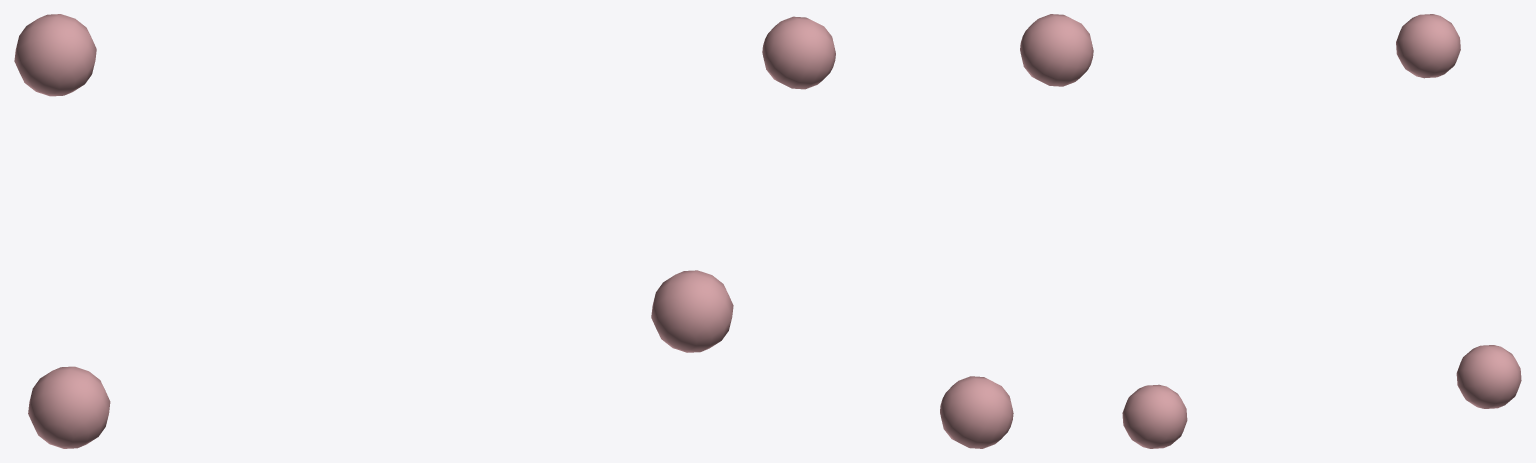
3 views of the same model, side by side, from view 1: azimuth 30°, elevation 25°; view 2: azimuth 150°, elevation 25°; view 3: azimuth 270°, elevation 25° (orthographic). The views are drawn at different scales.
Visible parts, largest first — view 1: ZA_7ebc623fe683411a; view 2: ZA_7ebc623fe683411a; view 3: ZA_7ebc623fe683411a.
Boxes of the visible parts, x1,y1,x2,y2 form: ZA_7ebc623fe683411a: (14, 14, 733, 448); ZA_7ebc623fe683411a: (762, 14, 1093, 448); ZA_7ebc623fe683411a: (1122, 14, 1521, 448).
Size of the model in its own units: 0.0193 by 0.0161 by 0.0158.
